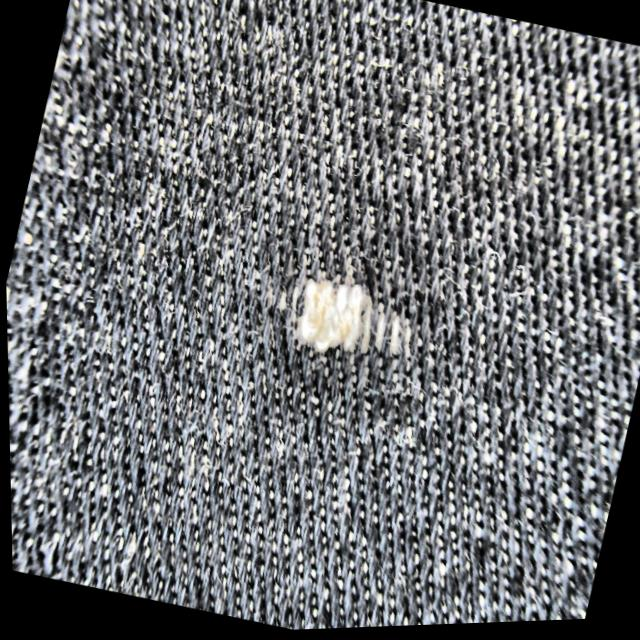Hole: (250, 214, 445, 409)
